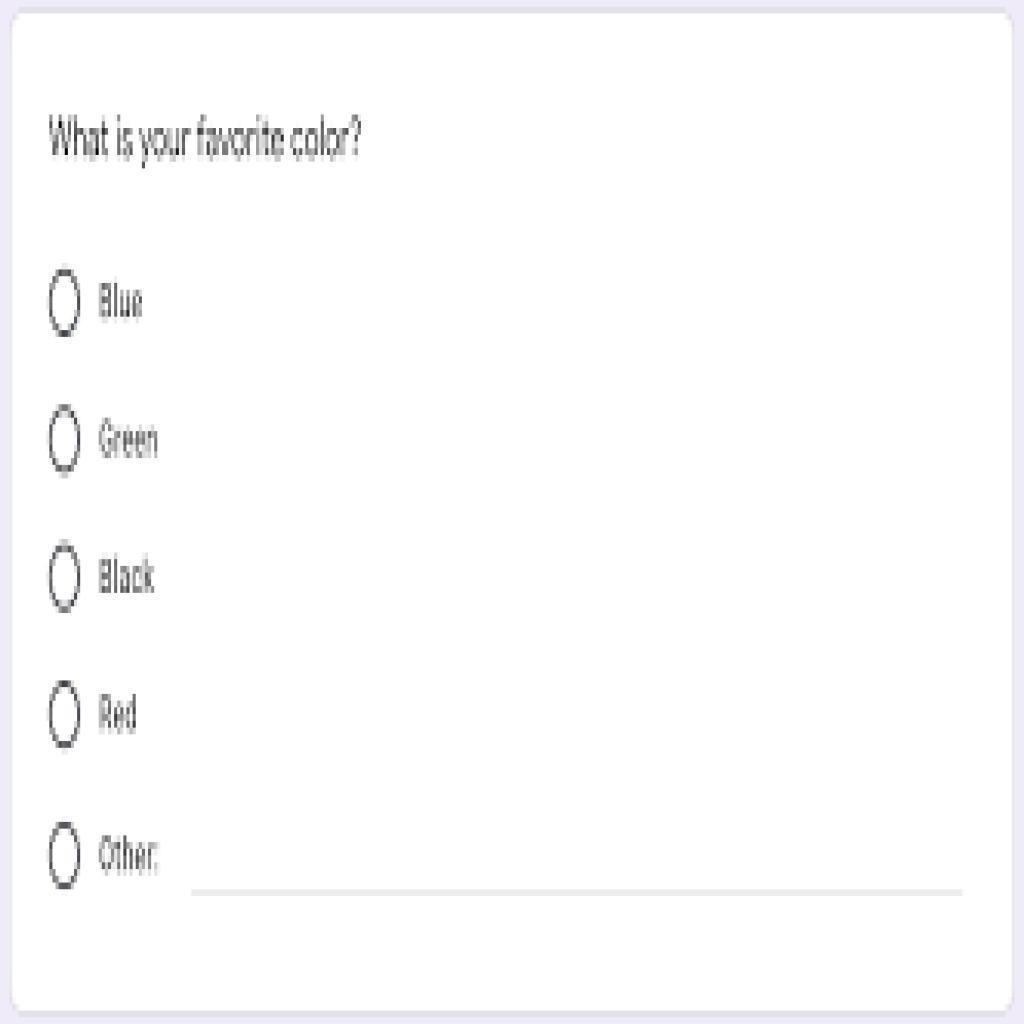radio: (44, 538, 86, 617), (42, 677, 85, 754), (44, 817, 86, 895), (44, 401, 84, 481), (45, 259, 84, 341)
